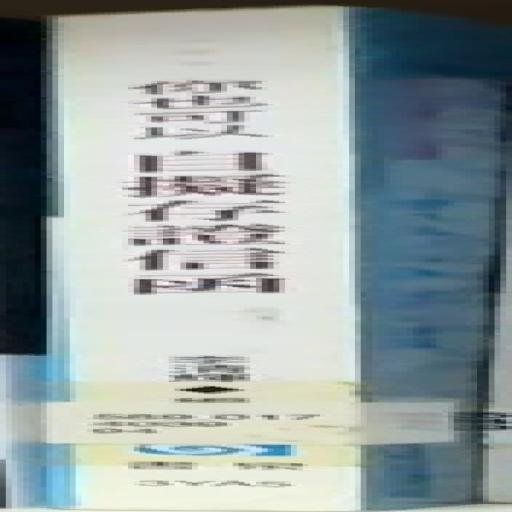book: (3, 1, 511, 512)
